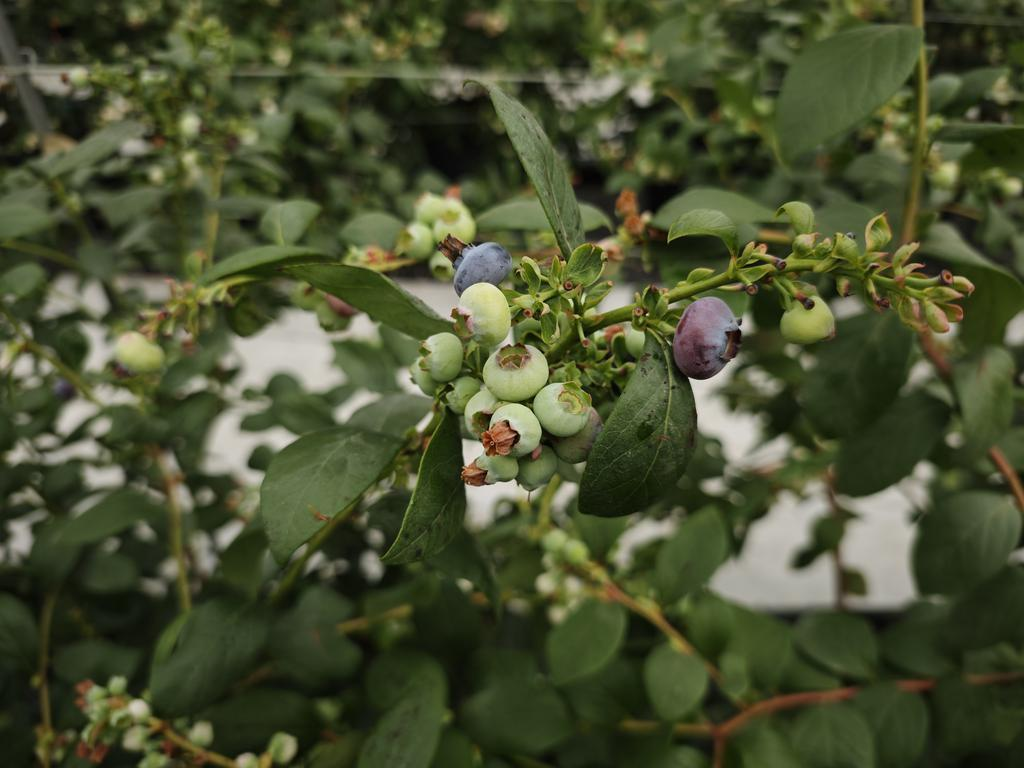RipeBlueBerry: (441, 236, 512, 292)
Semi-RipeBlueBerry: (674, 295, 744, 381)
UnripeBlueBerry: (481, 341, 549, 400), (450, 283, 512, 346), (486, 404, 541, 457)
